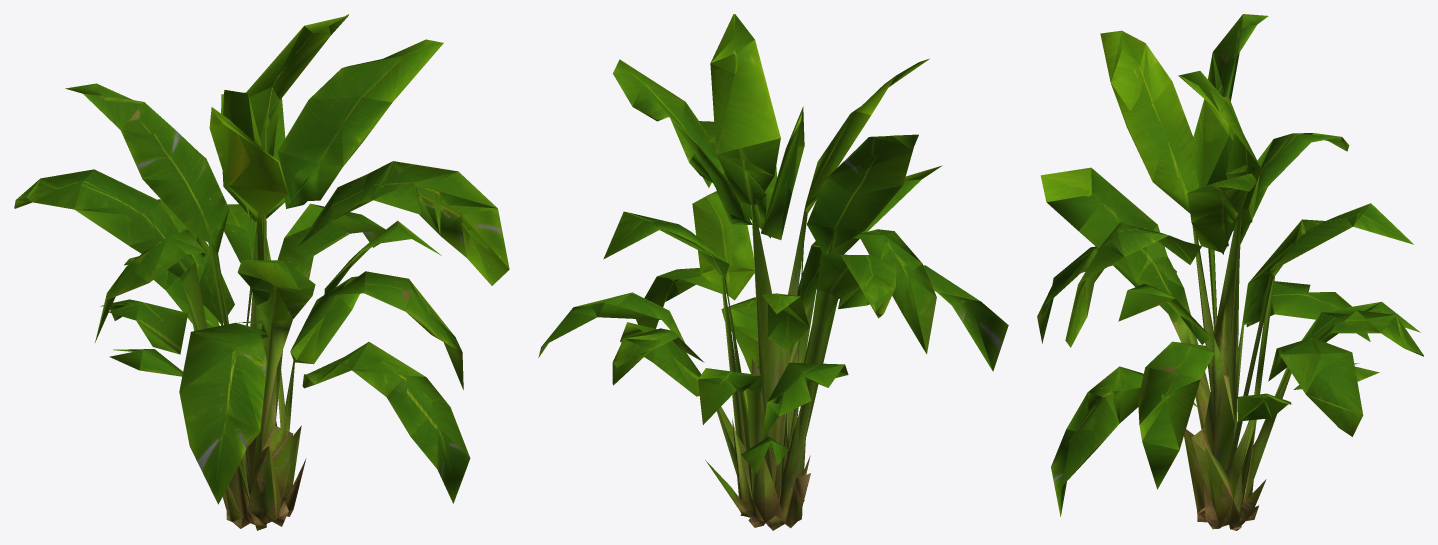
File: VEG_PlantaTropical_02_LOD2.fbx
3 renders of one model, left to right at view 1: azimuth 30°, elevation 25°; view 2: azimuth 150°, elevation 25°; view 3: azimuth 270°, elevation 25°, orthographic. The views are drawn at different scales.
Visible parts, largest first — view 1: VEG_PlantaTropical_02_Mesh000; view 2: VEG_PlantaTropical_02_Mesh000; view 3: VEG_PlantaTropical_02_Mesh000.
Part boxes in pixels (x1,y1,x2,y2): VEG_PlantaTropical_02_Mesh000: (14, 14, 509, 530); VEG_PlantaTropical_02_Mesh000: (538, 14, 1008, 530); VEG_PlantaTropical_02_Mesh000: (1037, 14, 1423, 530).
Size of the model in its own units: 1.59 by 2.1 by 1.56.
